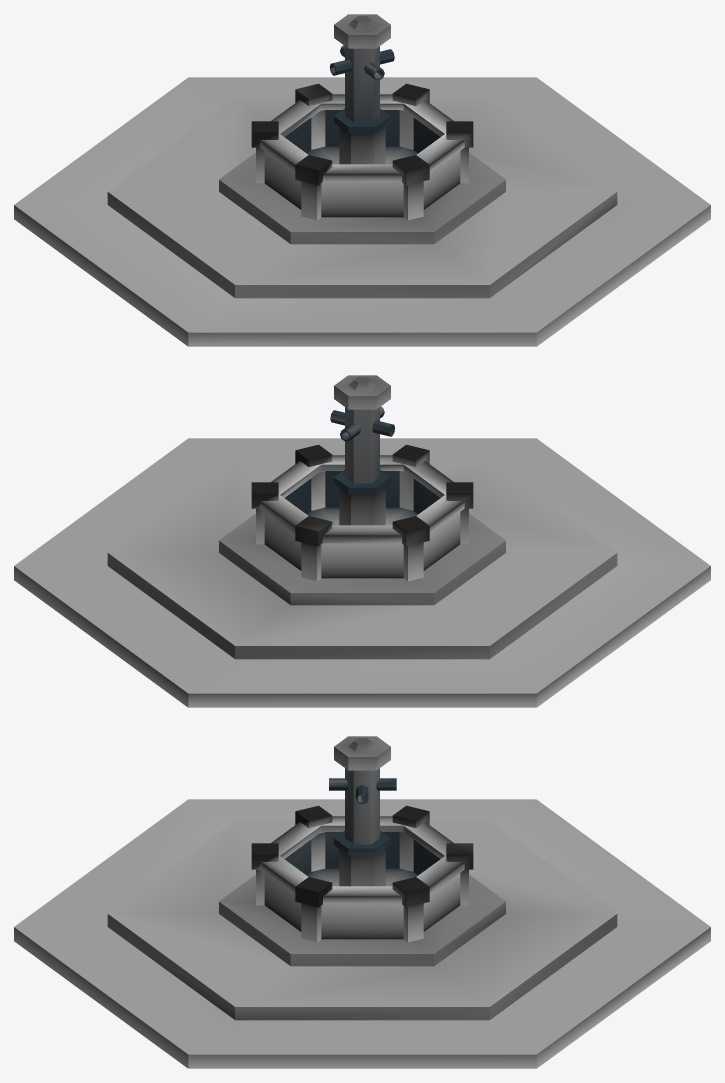
File: fonte.fbx
The picture shows the model from 3 angles, top to bottom: view 1: azimuth 30°, elevation 25°; view 2: azimuth 150°, elevation 25°; view 3: azimuth 270°, elevation 25°; orthographic projection.
Visible parts, largest first — view 1: fonte; view 2: fonte; view 3: fonte.
Boxes of the visible parts, <box> form: fonte: <box>14,14,710,346</box>; fonte: <box>14,375,710,707</box>; fonte: <box>14,736,710,1068</box>.
Bounding box in the file's own units: 548 × 200 × 633.
